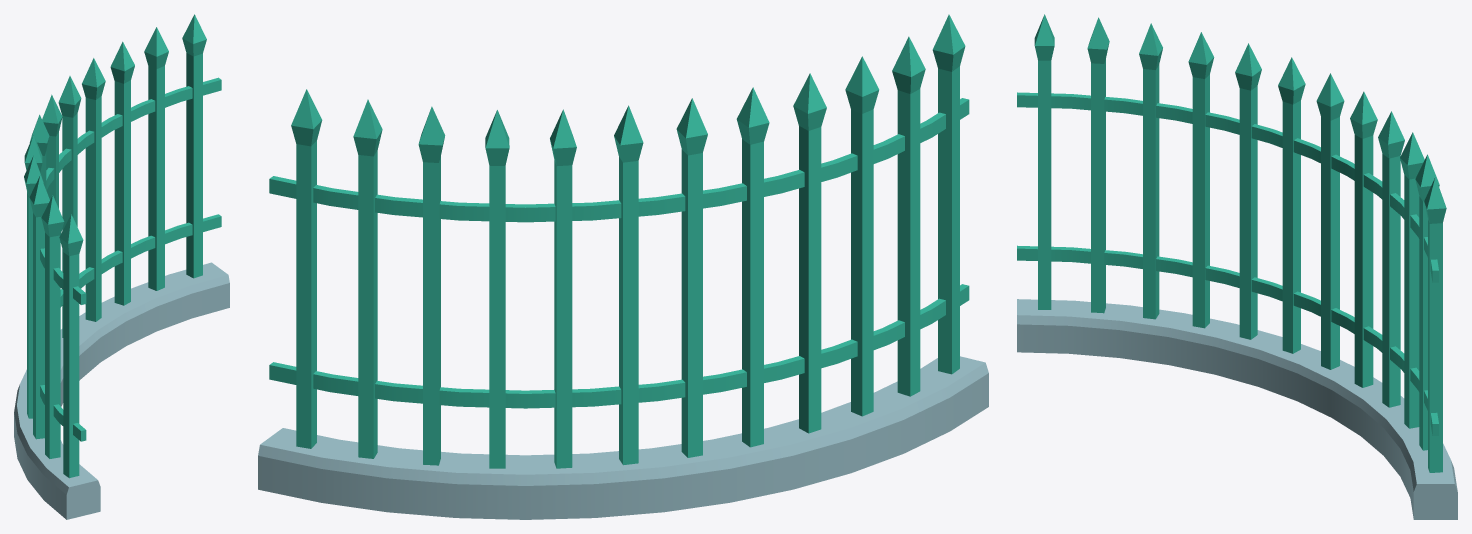
File: ironFenceBorderCurve.fbx
3 renders of one model, left to right at view 1: azimuth 30°, elevation 25°; view 2: azimuth 150°, elevation 25°; view 3: azimuth 270°, elevation 25°, orthographic. The views are drawn at different scales.
Visible parts, largest first — view 1: ironFenceBorderCurve; view 2: ironFenceBorderCurve; view 3: ironFenceBorderCurve.
Boxes of the visible parts, x1=… form: ironFenceBorderCurve: x1=14, y1=14, x2=229, y2=519; ironFenceBorderCurve: x1=258, y1=14, x2=988, y2=519; ironFenceBorderCurve: x1=1017, y1=14, x2=1457, y2=519.
Bounding box in the file's own units: 10 × 8.24 × 10.
